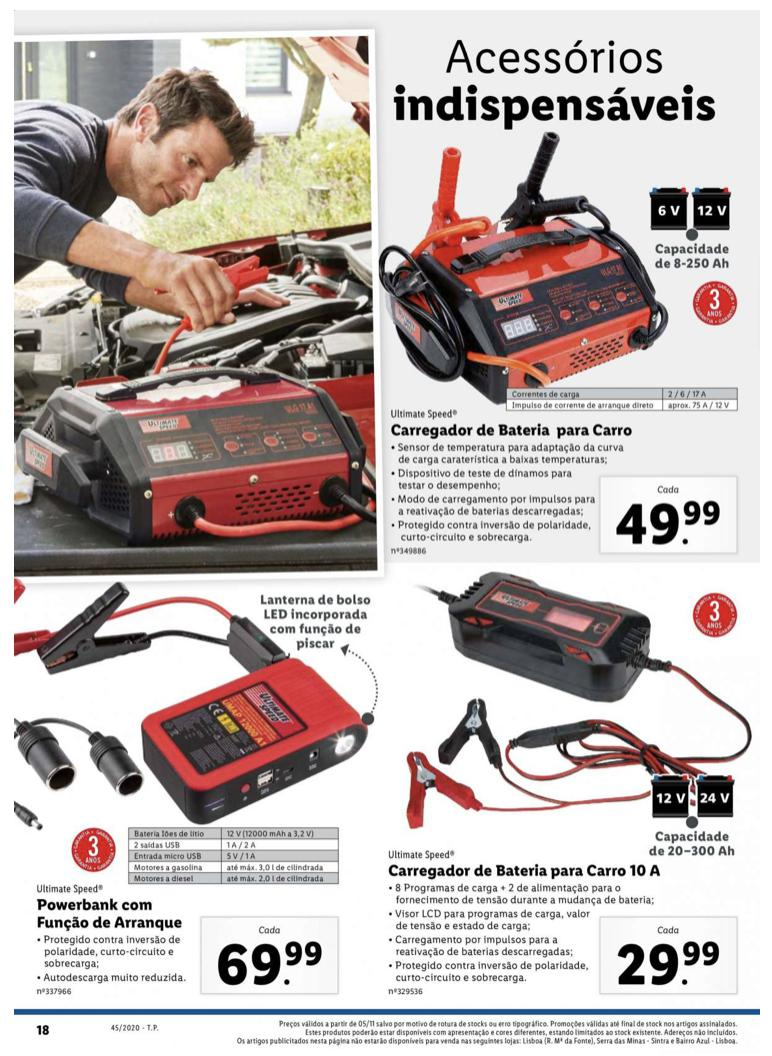name: (386, 858, 666, 884), (34, 896, 188, 933), (390, 420, 638, 441)
price: (611, 495, 721, 554), (215, 937, 324, 994), (613, 937, 721, 991)
product: (369, 574, 753, 1002), (378, 133, 751, 565), (30, 582, 369, 1002)
